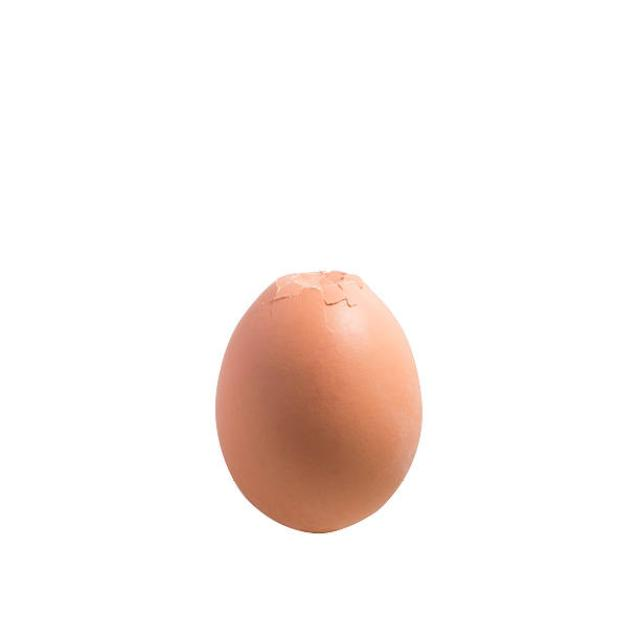Crack: (202, 264, 434, 542)
